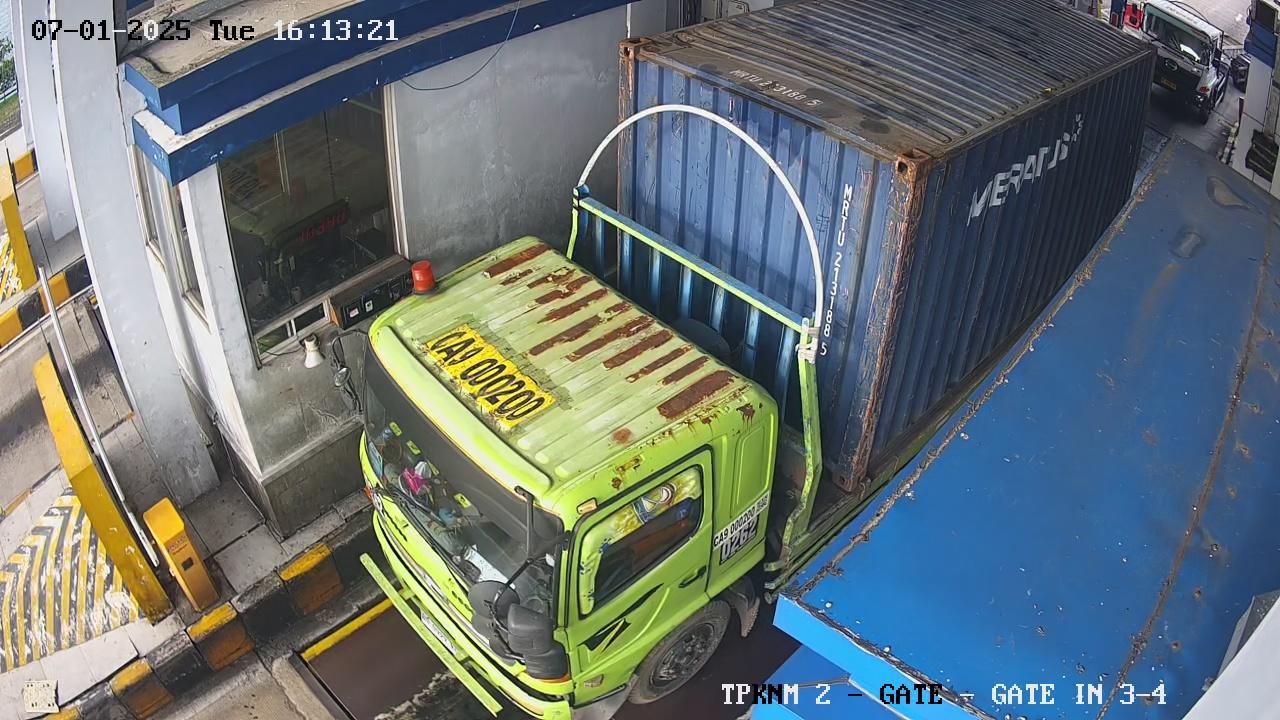Container_ID: (731, 68, 823, 114)
Container_ID_Vertikal: (811, 184, 853, 362)
truck_id: (421, 325, 555, 432), (712, 495, 767, 564)
